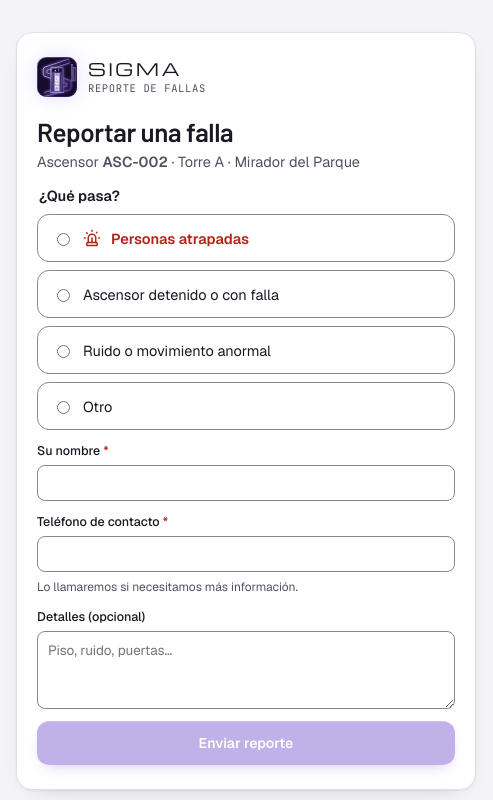
Test: reporte de fallas por QR › pide los datos de contacto y muestra el número de seguimiento sin iniciar sesión
expect the text "ASC-002" is shown: met, box top-left (102, 152), bottom-right (168, 171)
expect the button "Enviar reporte" is disabled: met, box top-left (37, 721), bottom-right (455, 765)
Click the radio button labelled "Personas atrapadas": (64, 240) top-left (57, 233), bottom-right (70, 246)
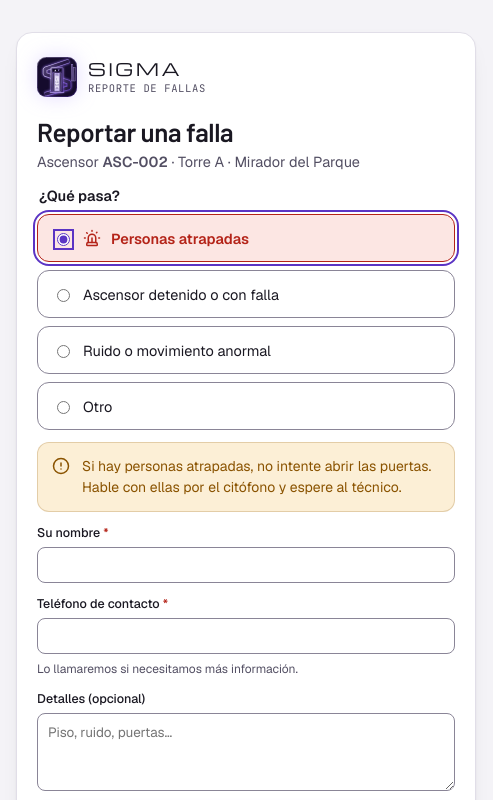
expect the text "no intente abrir las puertas" is shown: met, box top-left (82, 457), bottom-right (431, 496)
In the field labelled "Su nombre *": (246, 565) top-left (37, 547), bottom-right (455, 583), type "Portería"
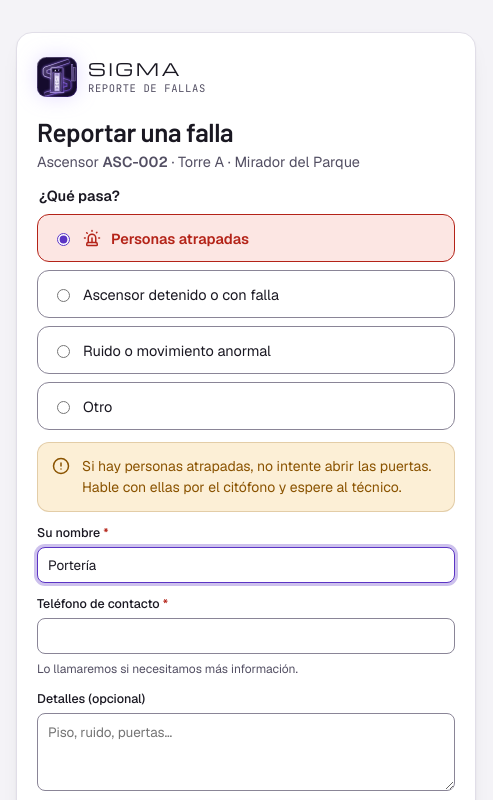
In the field labelled "Teléfono de contacto *": (246, 636) top-left (37, 618), bottom-right (455, 654), type "6015551234"
(page scrolled)
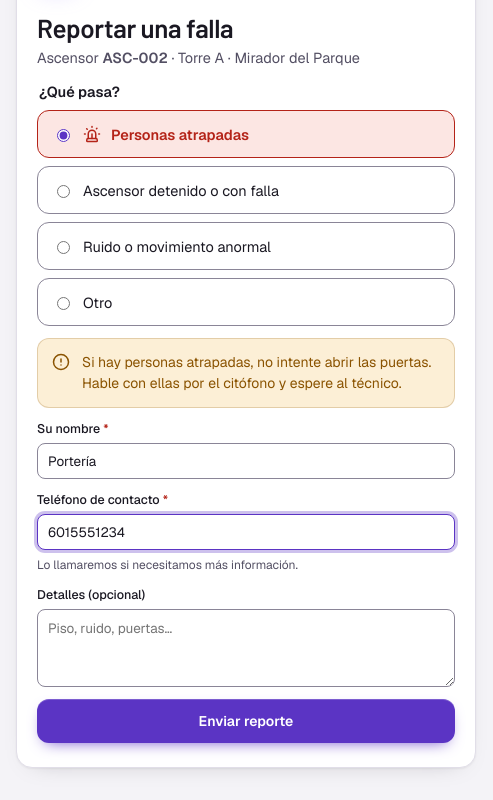
Click the button "Enviar reporte": (246, 721) top-left (37, 699), bottom-right (455, 743)
(page scrolled)
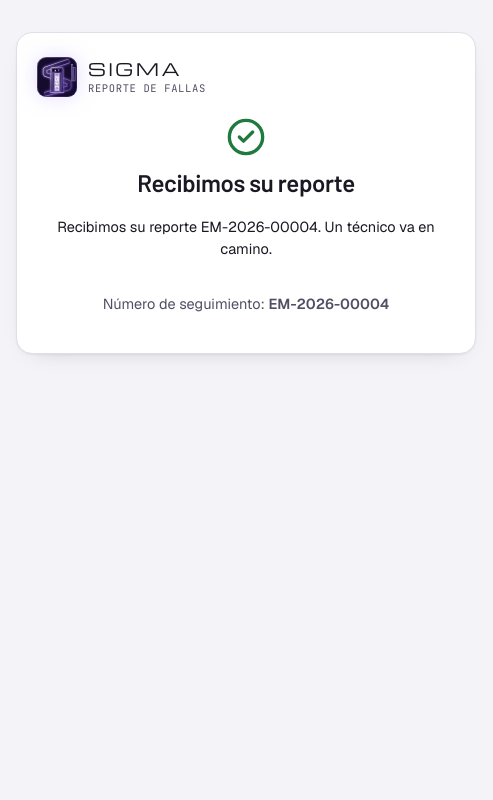
expect the heading "Recibimos su reporte" is shown: met, box top-left (137, 169), bottom-right (355, 198)
expect the text "EM-2026-00004" is shown: met, box top-left (268, 294), bottom-right (389, 313)
